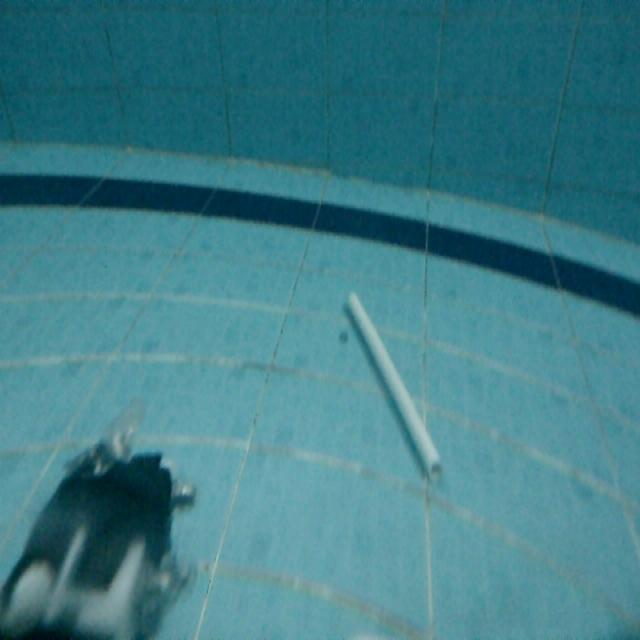Cube: (344, 295, 446, 482)
